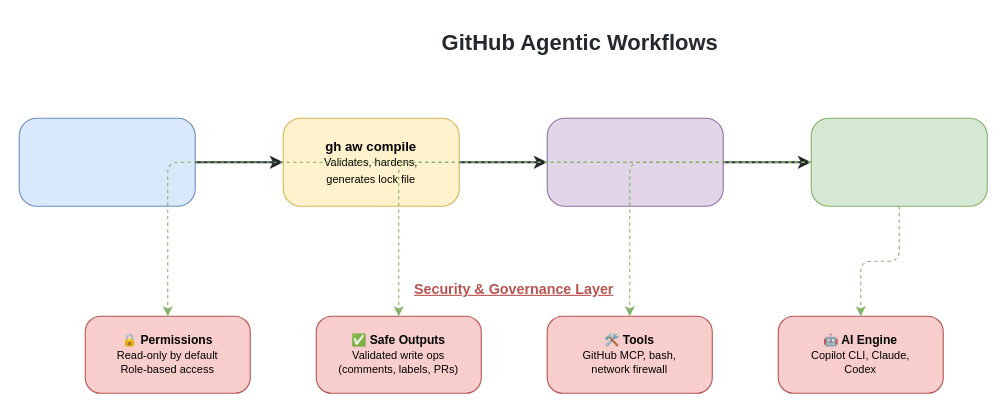
The diagram is 1007 pixels wide and 413 high, and some of its shapes have lost their labels. The shapes that lost their labels are listed below. From the top down, each one's centre as x and y in pixels, then its label:
(106,161): workflow.md Natural language instructions + YAML frontmatter
(634,161): .lock.yml Hardened Actions workflow (SHA-pinned)
(898,161): GitHub Actions Trigger → Activate → Run AI Agent
